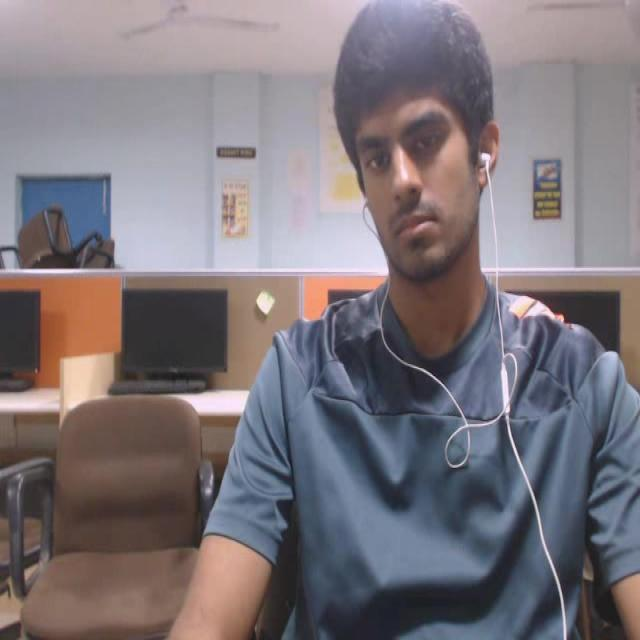Engaged: (303, 0, 534, 327)
